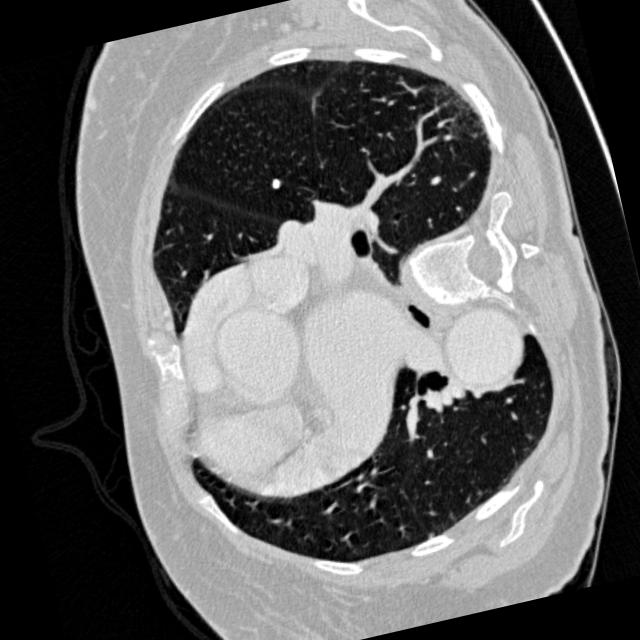nodule: (260, 169, 286, 195)
